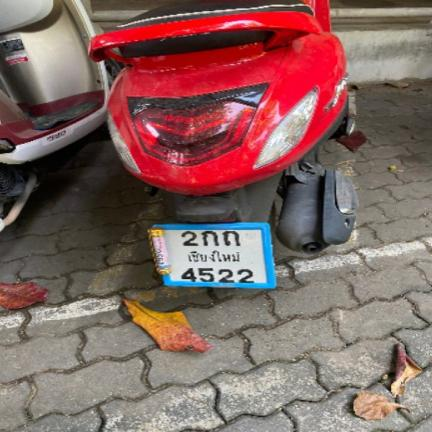2: (177, 230, 199, 247), (236, 267, 256, 283), (216, 267, 235, 282)
4: (176, 267, 198, 283)
5: (199, 268, 216, 282)
A01: (200, 231, 221, 246)
A22: (222, 231, 243, 246)
CMI: (183, 248, 241, 263)
